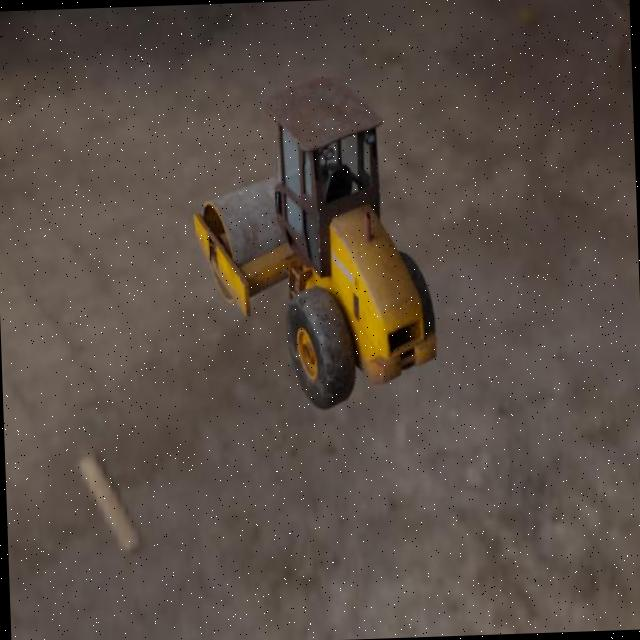Roller: (188, 72, 438, 414)
